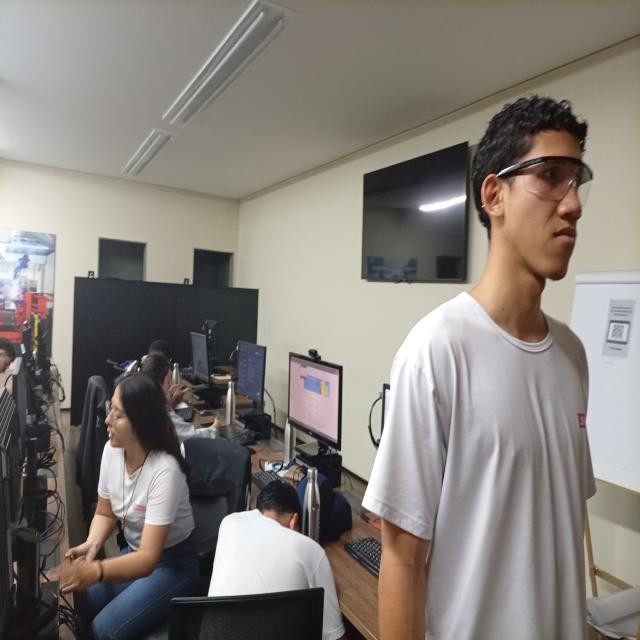oculos-epi: (497, 156, 593, 205)
sem_oculos: (95, 397, 148, 439), (168, 379, 172, 395)
